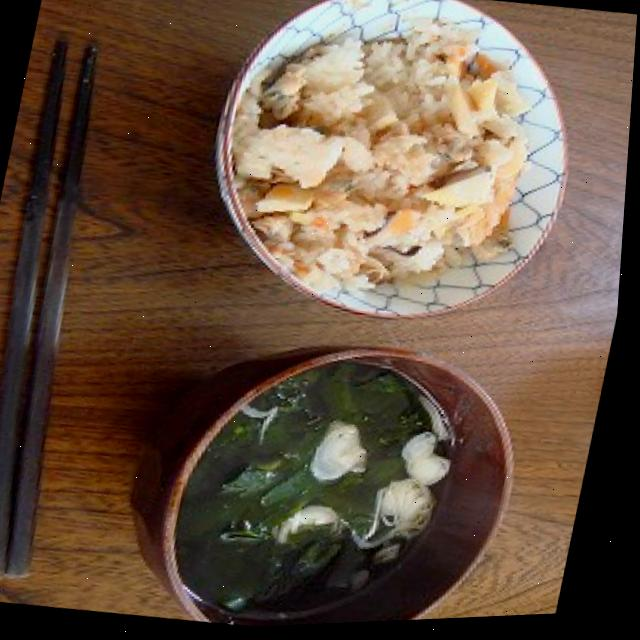汤锅炖物: (114, 310, 536, 635)
米饭主食: (183, 0, 601, 346)
